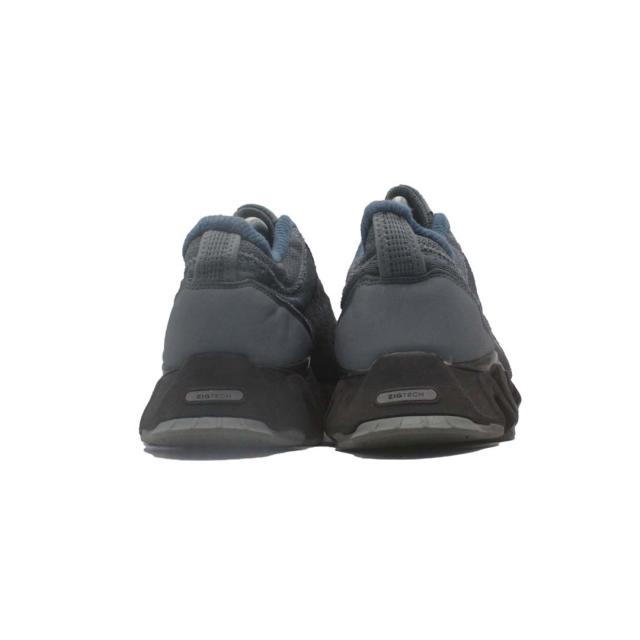heel: (334, 181, 499, 362), (160, 199, 301, 373)
midsole: (144, 370, 525, 456)
